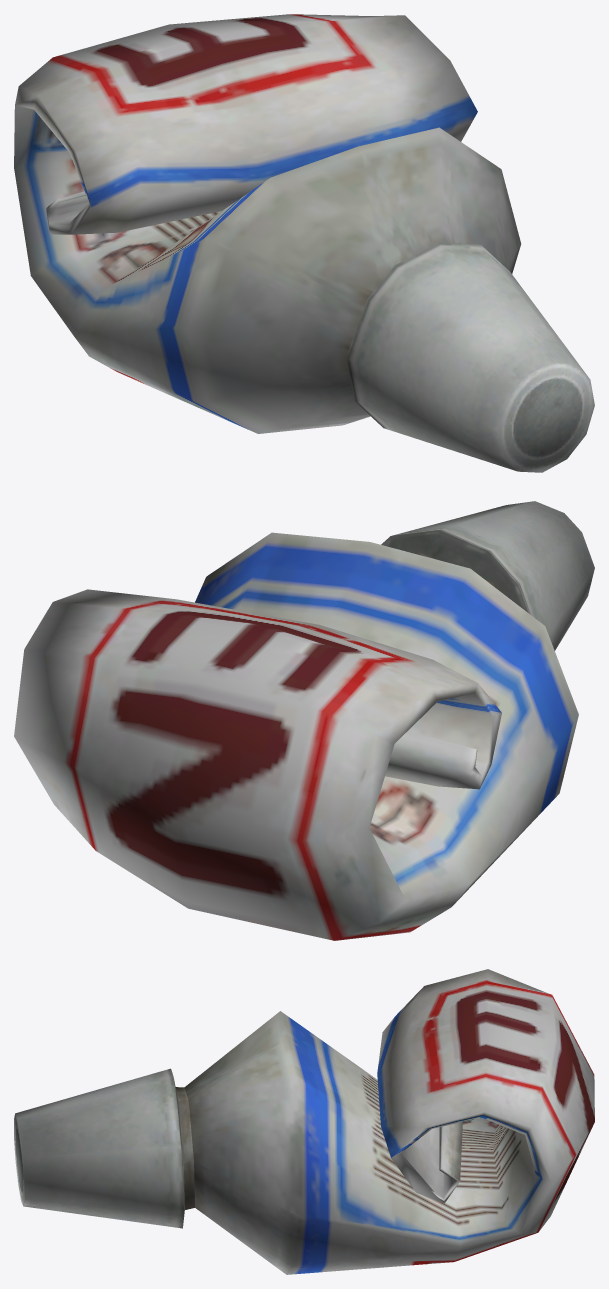
File: tooth_paste_used.dae
The picture shows the model from 3 angles, top to bottom: view 1: azimuth 30°, elevation 25°; view 2: azimuth 150°, elevation 25°; view 3: azimuth 270°, elevation 25°; orthographic projection. The views are drawn at different scales.
Visible parts, largest first — view 1: tooth_paste; view 2: tooth_paste; view 3: tooth_paste.
Part boxes in pixels (box(x1,y1,x2,y2)): tooth_paste: box(14, 14, 594, 472); tooth_paste: box(14, 501, 594, 940); tooth_paste: box(14, 969, 594, 1274).
Size of the model in its own units: 0.0461 by 0.0324 by 0.0761.
